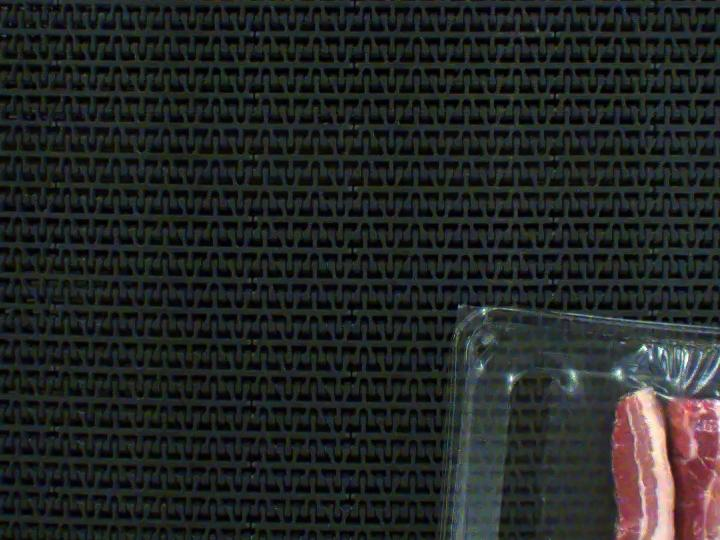unsealed: (565, 358, 720, 455)
